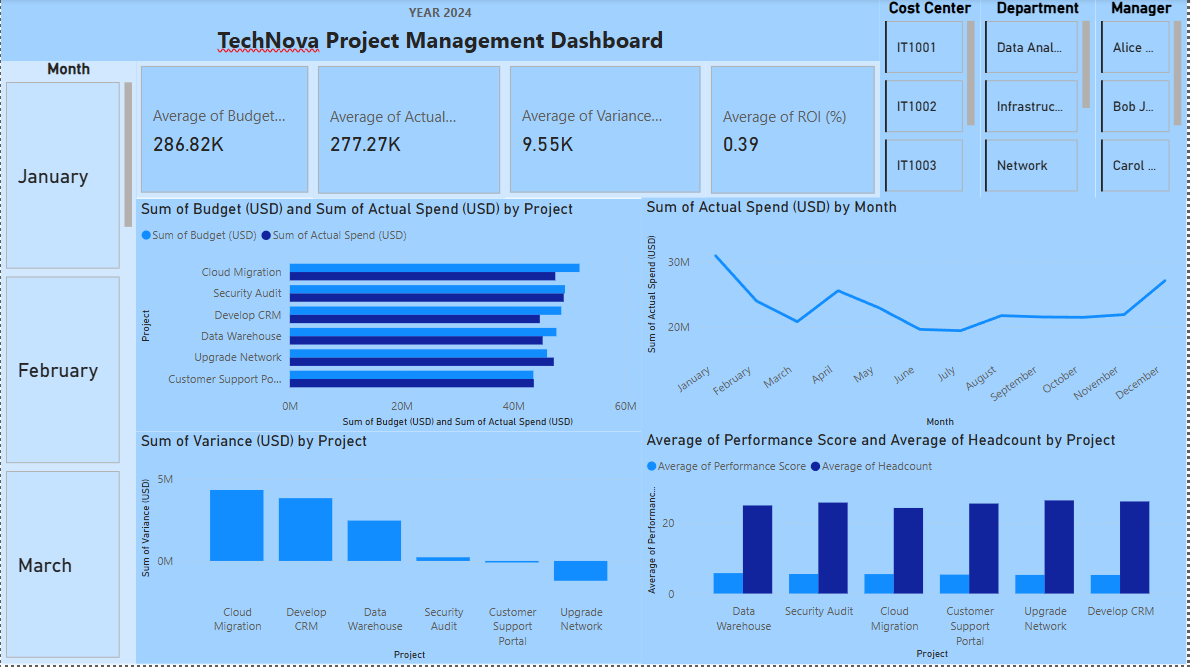

The dashboard page shown, as its layout file describes it:
{"tool":"powerbi","page":{"name":"IT DEPARTMENT PROJECT  PERFORMANCE","canvas":[1280,720],"ordinal":0},"visuals":[{"type":"cardVisual","fields":{"Data":["IT DEPT FINANCE ANALYSES.Budget (USD)"]},"box":[145.7,68,191.1,147.3],"z":0},{"type":"cardVisual","fields":{"Data":["IT DEPT FINANCE ANALYSES.Actual Spend (USD)"]},"box":[336.8,68,207.3,149],"z":1000},{"type":"cardVisual","fields":{"Data":["IT DEPT FINANCE ANALYSES.Variance (USD)"]},"box":[544.1,68,217,147.3],"z":2000},{"type":"cardVisual","fields":{"Data":["IT DEPT FINANCE ANALYSES.ROI (%)"]},"box":[761,68,187.8,149],"z":3000},{"type":"clusteredBarChart","fields":{"Y":["IT DEPT FINANCE ANALYSES.Budget (USD)","IT DEPT FINANCE ANALYSES.Actual Spend (USD)"],"Category":["IT DEPT FINANCE ANALYSES.Project"]},"box":[145.7,217,545.7,251],"z":4000},{"type":"lineChart","fields":{"Category":["IT DEPT FINANCE ANALYSES.Date.Variation.Date Hierarchy.Month"],"Y":["IT DEPT FINANCE ANALYSES.Actual Spend (USD)"]},"box":[691.4,215.4,587.8,252.6],"z":5000},{"type":"clusteredColumnChart","fields":{"Category":["IT DEPT FINANCE ANALYSES.Project"],"Y":["IT DEPT FINANCE ANALYSES.Variance (USD)"]},"box":[145.7,468,545.7,251],"z":6000},{"type":"lineClusteredColumnComboChart","fields":{"Category":["IT DEPT FINANCE ANALYSES.Project"],"Y":["IT DEPT FINANCE ANALYSES.Performance Score","IT DEPT FINANCE ANALYSES.Headcount"]},"box":[691.4,466.3,587.8,252.6],"z":7000},{"type":"textbox","box":[0,0,948.9,68],"z":8000},{"type":"advancedSlicerVisual","fields":{"Values":["IT DEPT FINANCE ANALYSES.Date.Variation.Date Hierarchy.Month"]},"box":[0,66.8,146.3,652.2],"z":9000},{"type":"advancedSlicerVisual","fields":{"Values":["IT DEPT FINANCE ANALYSES.Cost Center"]},"box":[949.5,0,107.9,215.9],"z":10000},{"type":"advancedSlicerVisual","fields":{"Values":["IT DEPT FINANCE ANALYSES.Department"]},"box":[1057.5,0,123.9,215.9],"z":11000},{"type":"advancedSlicerVisual","fields":{"Values":["IT DEPT FINANCE ANALYSES.Manager"]},"box":[1181.4,0,97.9,215.9],"z":12000}]}

Visuals, with their boxes in screenshot pixels (x1, y1, x2, y2), scaled from the page's 1280x720 canvas onto the 1191x667 screenshot:
cardVisual - IT DEPT FINANCE ANALYSES.Budget (USD): region(136, 63, 313, 199)
cardVisual - IT DEPT FINANCE ANALYSES.Actual Spend (USD): region(313, 63, 506, 201)
cardVisual - IT DEPT FINANCE ANALYSES.Variance (USD): region(506, 63, 708, 199)
cardVisual - IT DEPT FINANCE ANALYSES.ROI (%): region(708, 63, 883, 201)
clusteredBarChart - IT DEPT FINANCE ANALYSES.Budget (USD) x IT DEPT FINANCE ANALYSES.Actual Spend (USD): region(136, 201, 643, 434)
lineChart - IT DEPT FINANCE ANALYSES.Date.Variation.Date Hierarchy.Month x IT DEPT FINANCE ANALYSES.Actual Spend (USD): region(643, 200, 1190, 434)
clusteredColumnChart - IT DEPT FINANCE ANALYSES.Project x IT DEPT FINANCE ANALYSES.Variance (USD): region(136, 434, 643, 666)
lineClusteredColumnComboChart - IT DEPT FINANCE ANALYSES.Project x IT DEPT FINANCE ANALYSES.Performance Score: region(643, 432, 1190, 666)
textbox: region(0, 0, 883, 63)
advancedSlicerVisual - IT DEPT FINANCE ANALYSES.Date.Variation.Date Hierarchy.Month: region(0, 62, 136, 666)
advancedSlicerVisual - IT DEPT FINANCE ANALYSES.Cost Center: region(883, 0, 984, 200)
advancedSlicerVisual - IT DEPT FINANCE ANALYSES.Department: region(984, 0, 1099, 200)
advancedSlicerVisual - IT DEPT FINANCE ANALYSES.Manager: region(1099, 0, 1190, 200)
